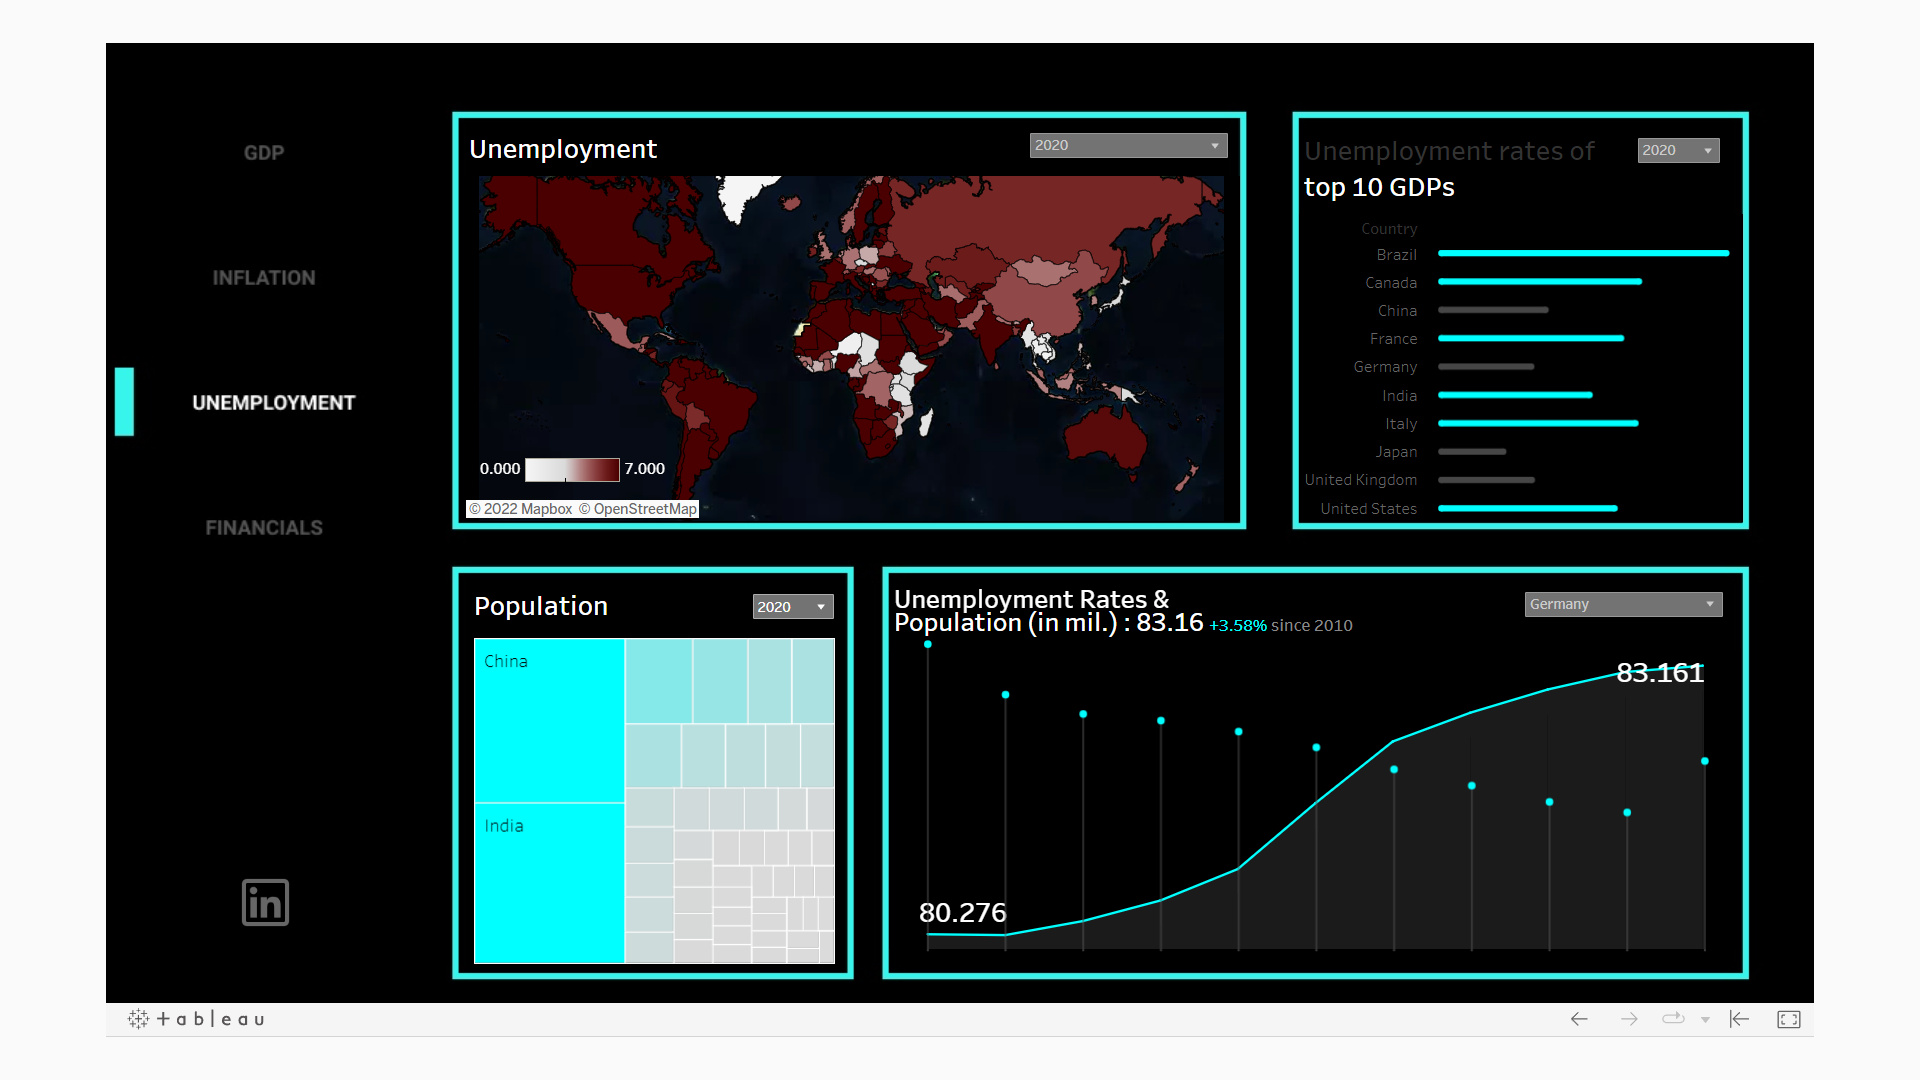

The dashboard page shown, as its layout file describes it:
{"tool":"tableau","page":{"name":"D U","canvas":[1366,768],"ordinal":3},"visuals":[{"type":"image","param":"Image/Untitled (17).png","box":[0,0,1366,768]},{"type":"worksheet","title":"ue","mark":"Automatic","box":[286,53,624,320]},{"type":"worksheet","title":"10ue","mark":"Line","rows":["Country"],"box":[954,54,355,319]},{"type":"filter","title":"ue","param":"[federated.0f5hmqm073gqa219k3y5i17aljlf].[:Measure Names]","box":[743,62,160,27]},{"type":"filter","title":"10ue","param":"[federated.1gsk78k0gi2evm1cet46m1uxcj2o].[yr:Pivot Field Names:ok]","box":[1142,88,160,30]},{"type":"dashboard-object","box":[9,155,205,56]},{"type":"dashboard-object","box":[9,265,204,58]},{"type":"legend","title":"ue","param":"[federated.0f5hmqm073gqa219k3y5i17aljlf].[Multiple Values]","box":[295,328,157,25]},{"type":"worksheet","title":"pop","mark":"Automatic","box":[286,419,295,311]},{"type":"worksheet","title":"UE c","mark":"Line","rows":["Pivot Field Values"],"cols":["Pivot Field Names"],"box":[626,424,683,314]},{"type":"filter","title":"pop","param":"[federated.0p8er2v10l714a1frp14q06n9wv3].[yr:Pivot Field Names:ok]","box":[488,425,67,25]},{"type":"parameter","param":"[Parameters].[Parameter 2]","box":[1145,427,160,33]},{"type":"worksheet","title":"pop ac","mark":"Area","rows":["Pivot Field Values","Pivot Field Values"],"cols":["Pivot Field Names"],"box":[626,443,682,282]},{"type":"dashboard-object","box":[9,489,205,56]}]}

Visuals, with their boxes on the page's 1366x768 design canvas (x1, y1, x2, y2). These are canvas units, not pixel positions in the 1920x1080 screenshot, which may show the page scaled, cropped or inside an application window:
image: rect(0, 0, 1366, 768)
"ue" worksheet: rect(286, 53, 910, 373)
"10ue" worksheet (Line marks): rect(954, 54, 1309, 373)
"ue" filter: rect(743, 62, 903, 89)
"10ue" filter: rect(1142, 88, 1302, 118)
dashboard-object: rect(9, 155, 214, 211)
dashboard-object: rect(9, 265, 213, 323)
"ue" legend: rect(295, 328, 452, 353)
"pop" worksheet: rect(286, 419, 581, 730)
"UE c" worksheet (Line marks): rect(626, 424, 1309, 738)
"pop" filter: rect(488, 425, 555, 450)
parameter: rect(1145, 427, 1305, 460)
"pop ac" worksheet (Area marks): rect(626, 443, 1308, 725)
dashboard-object: rect(9, 489, 214, 545)
